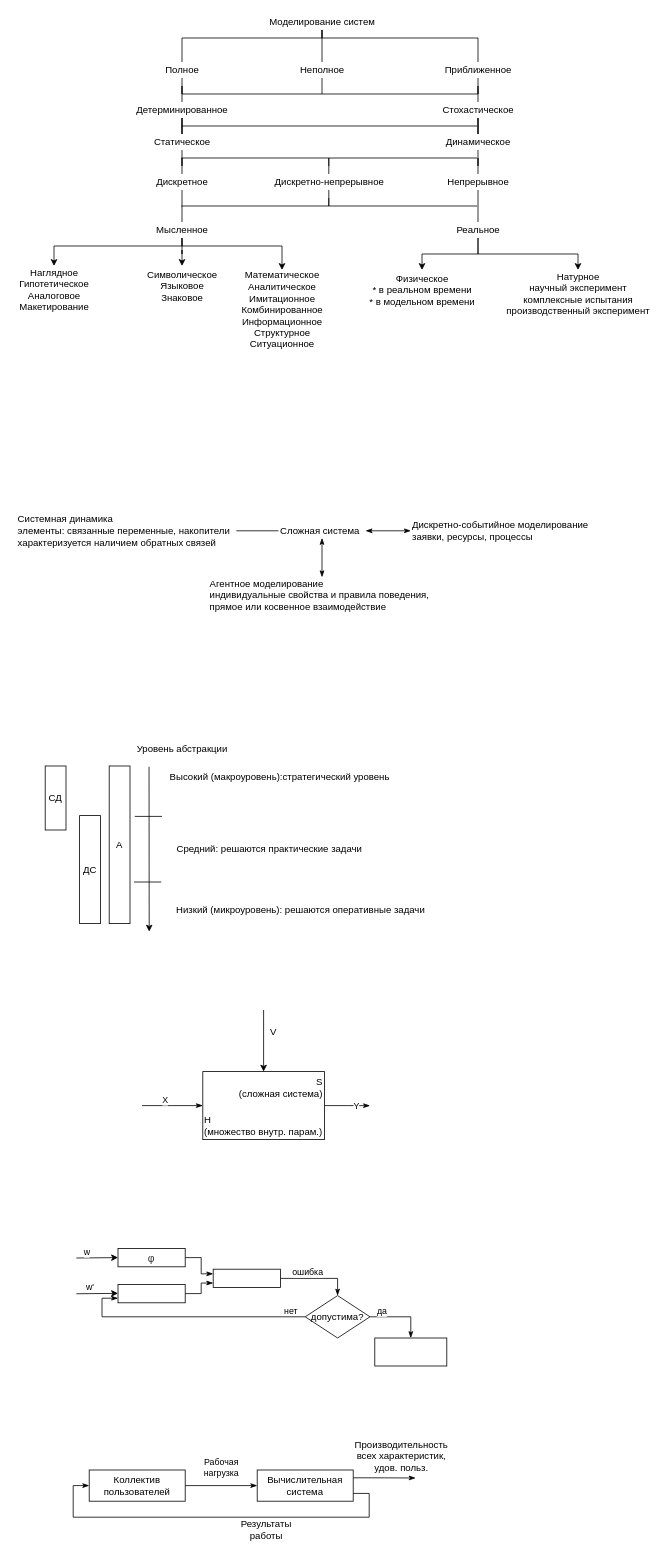
Some shapes in this 667 by 1555 pixel diagram are drawn without their labels. The shapes that lost their labels are listed below. From the top down, each one's box as (x1, y1, x2, y2) in pixels, then its label:
(117, 1284, 185, 1303): φ' (модели)
(212, 1268, 280, 1288): компоратор
(374, 1337, 447, 1366): все великолепно
